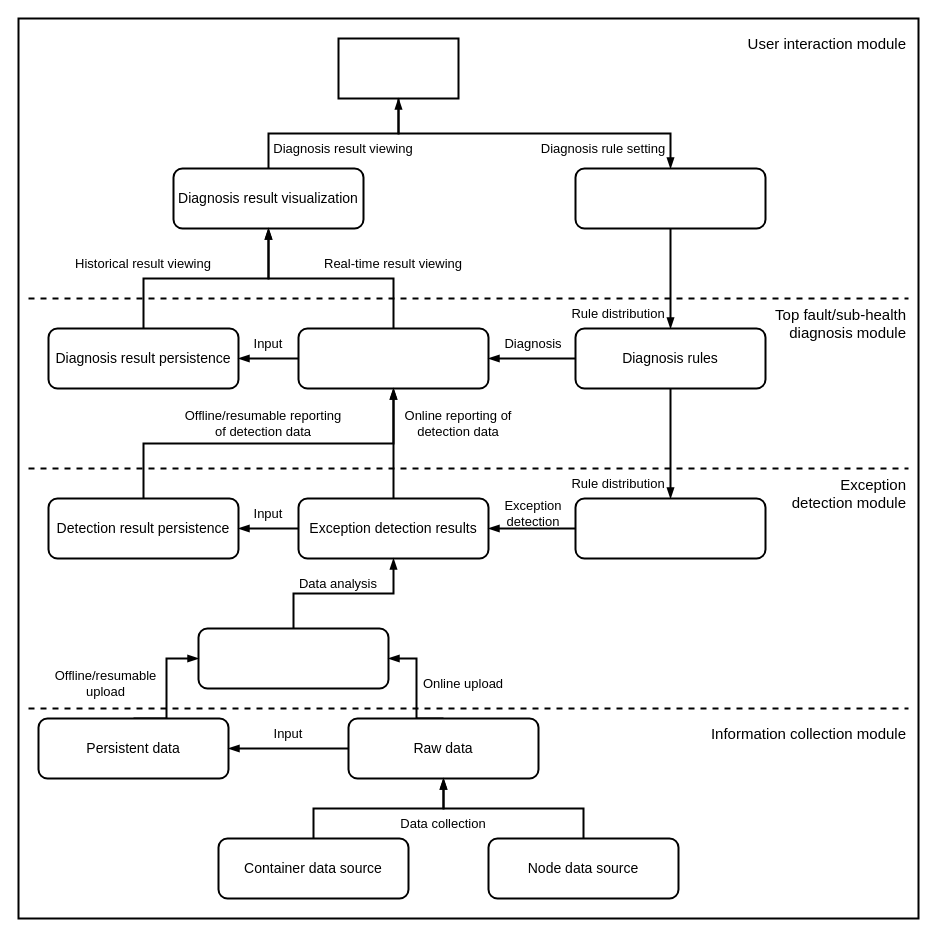
This 936x936 diagram has some shape labels left out. The box of each missing label's shape, as (x1, y1, x2, y2) in pixels:
Client: (337, 37, 459, 99)
Data pre-processing: (197, 627, 389, 689)
Diagnosis configuration: (574, 167, 766, 229)
Exception detection rules: (574, 497, 766, 559)
Fault/Sub-health diagnosis results: (297, 327, 489, 389)
